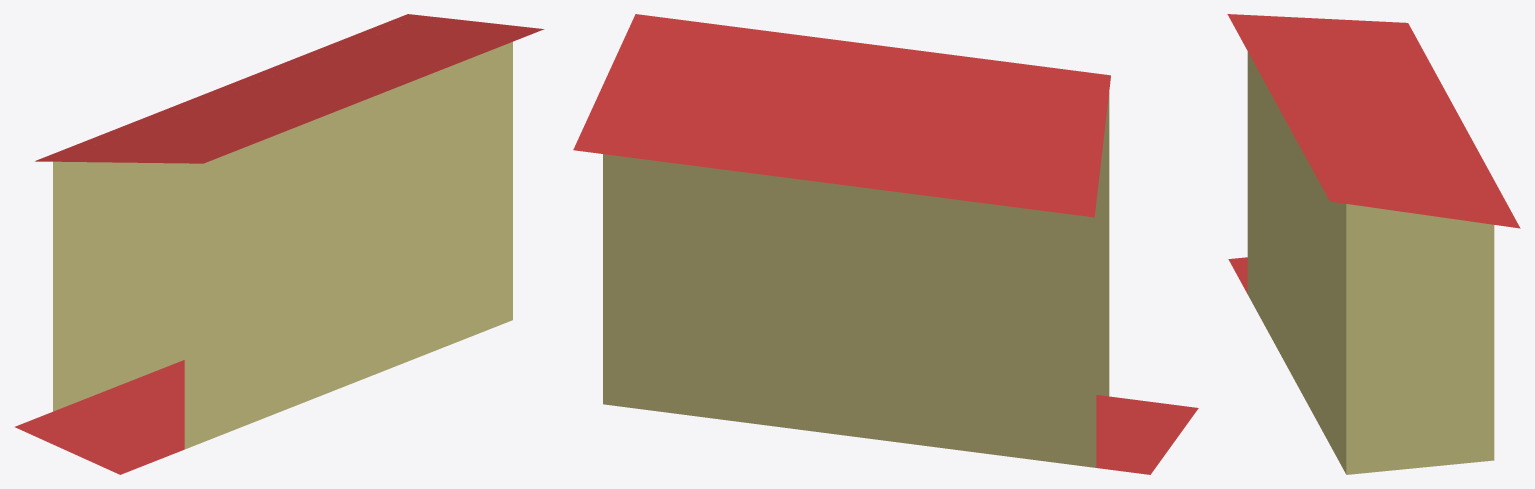
3 renders of one model, left to right at view 1: azimuth 30°, elevation 25°; view 2: azimuth 150°, elevation 25°; view 3: azimuth 270°, elevation 25°, orthographic. The views are drawn at different scales.
Size of the model in its own units: 12.98 by 6.66 by 7.14.
